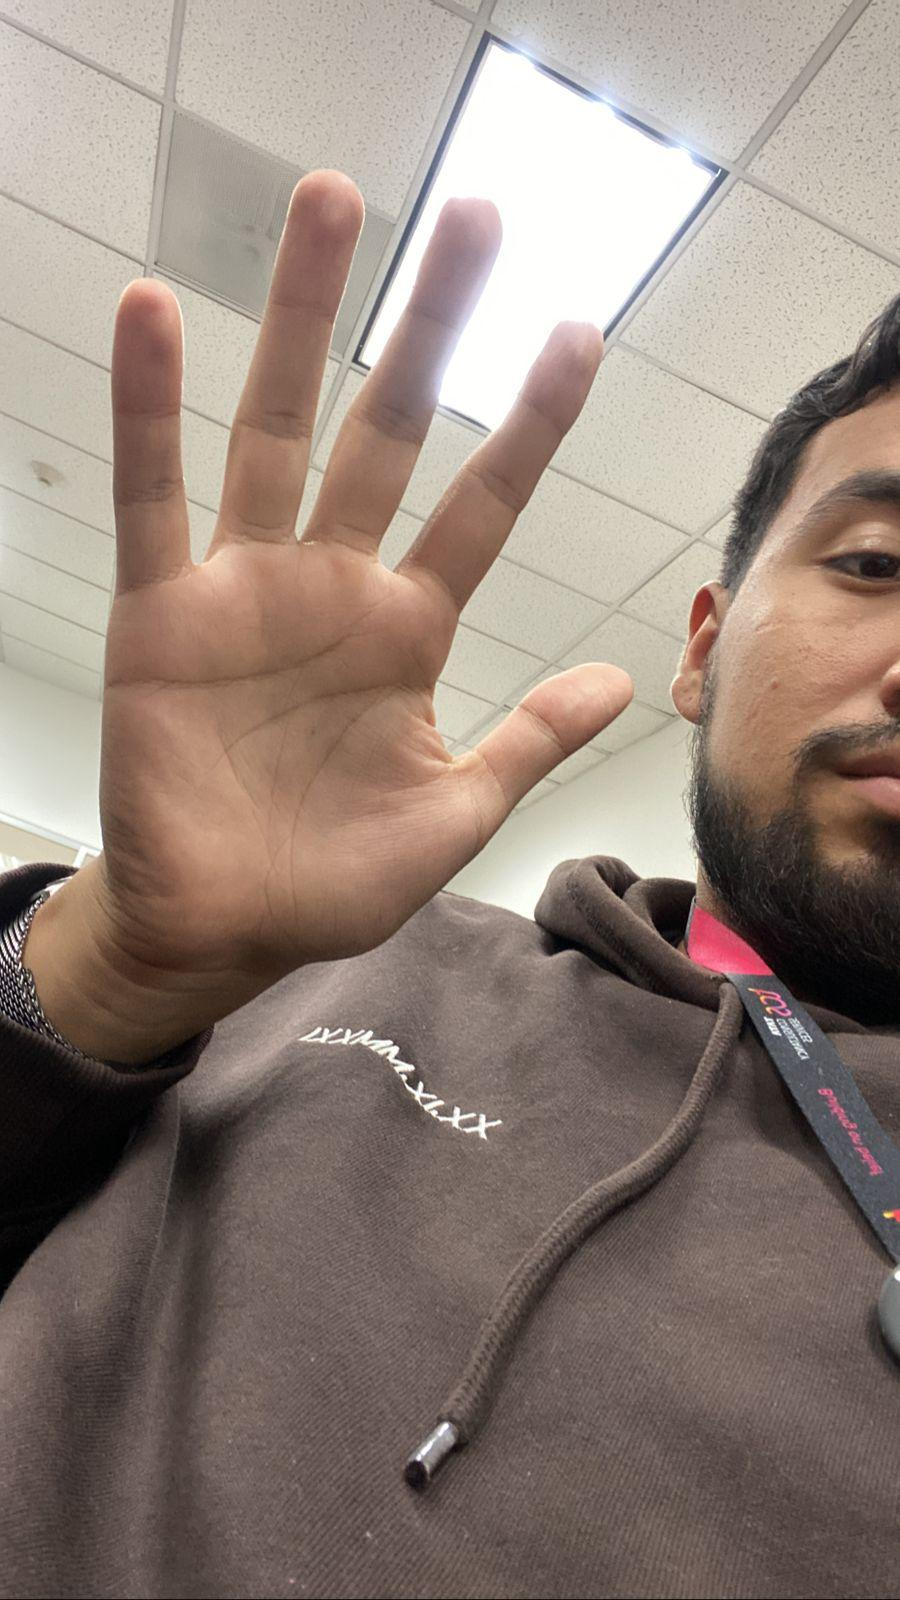Paper: (33, 140, 641, 1043)
